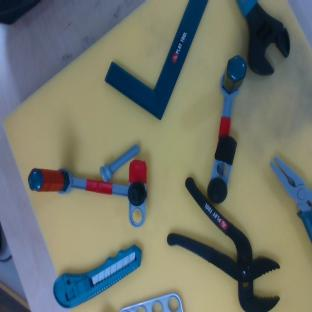non_pass: (205, 53, 247, 205)
pass: (27, 158, 146, 227)
